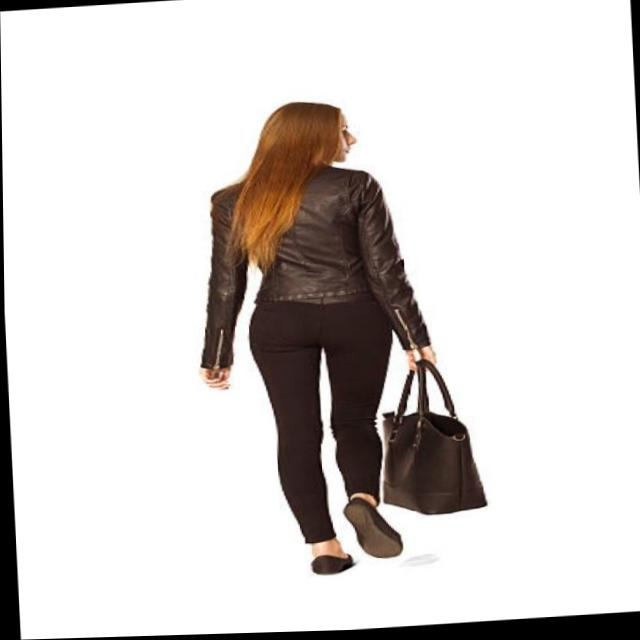no helmet: (233, 94, 392, 194)
